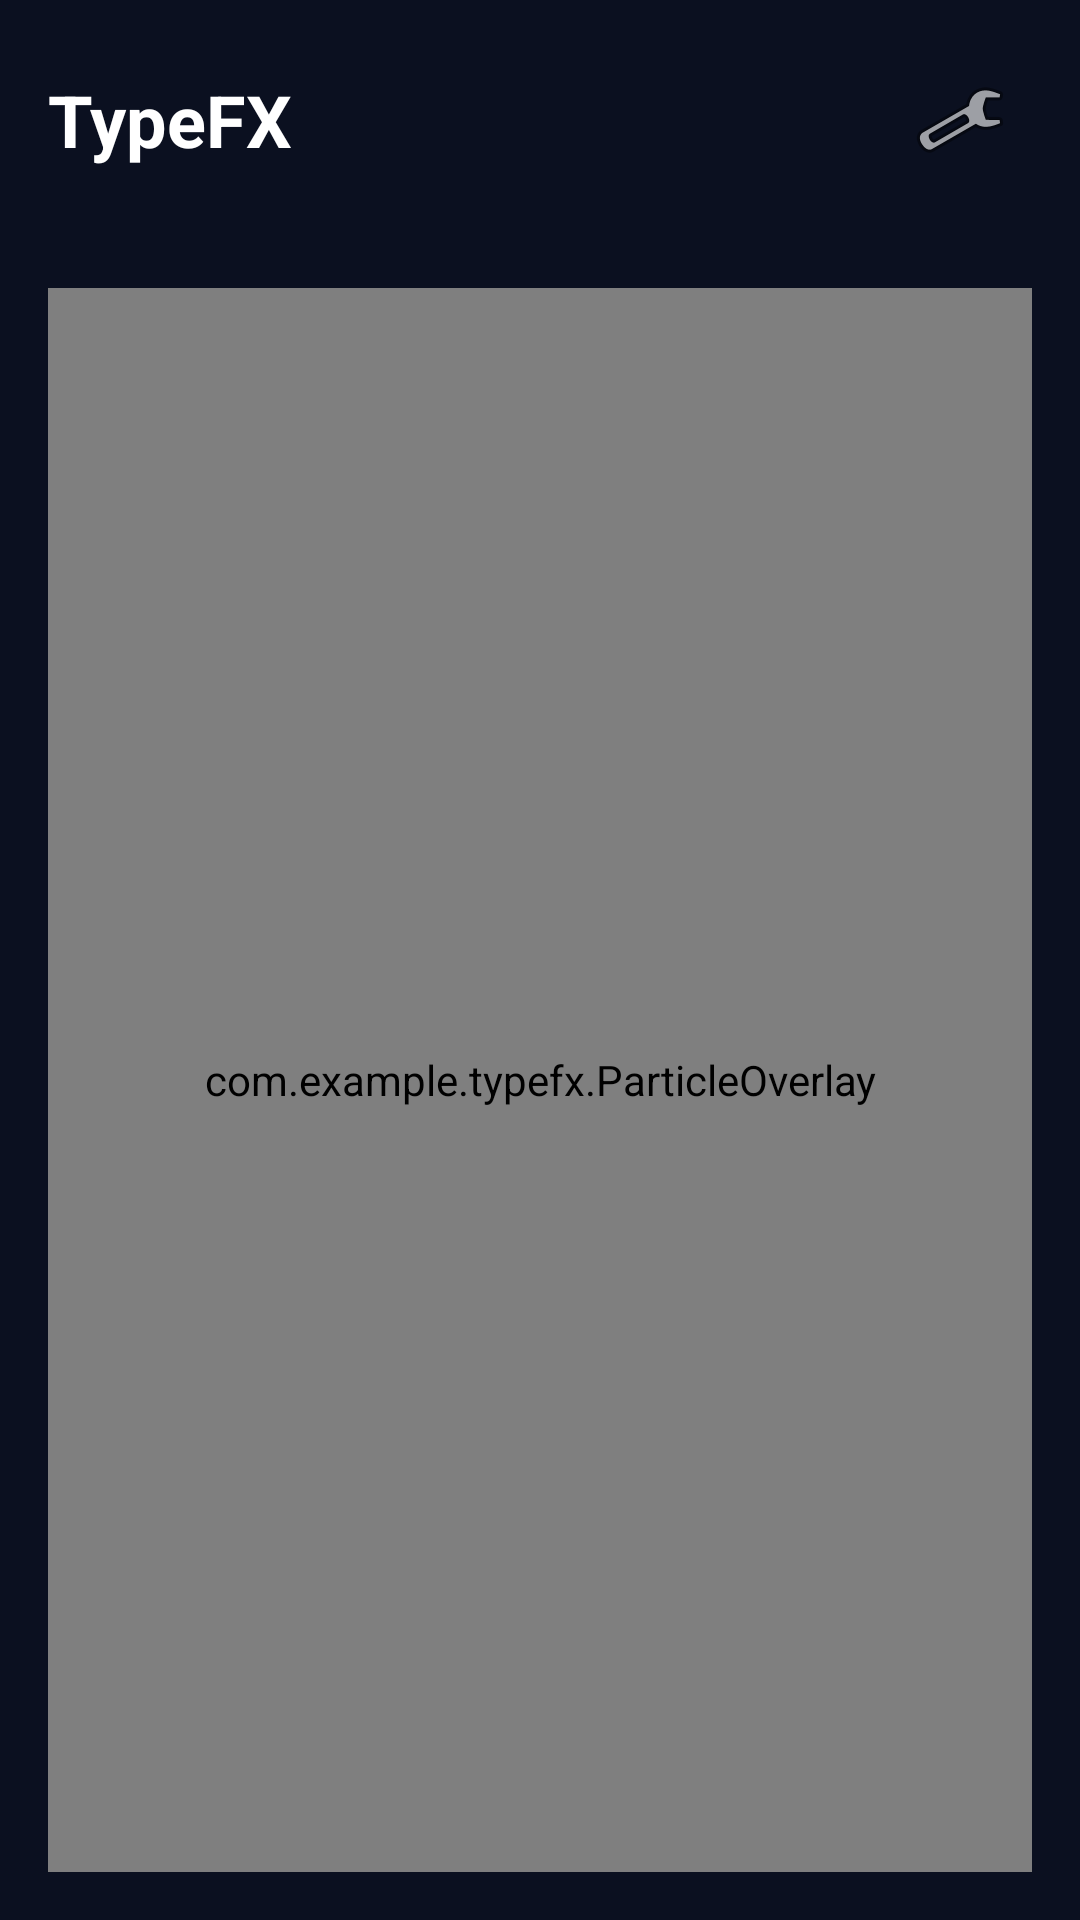

Icon bounding boxes for this 1080px x 1920px phone screenshot, format (x1, y1, x2, y2):
Settings: (920, 90, 1000, 150)
